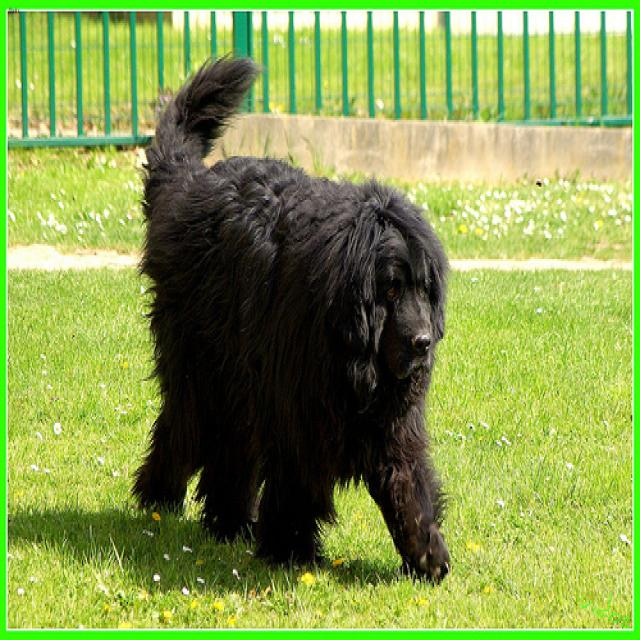dog-newfoundland: (118, 44, 456, 592)
